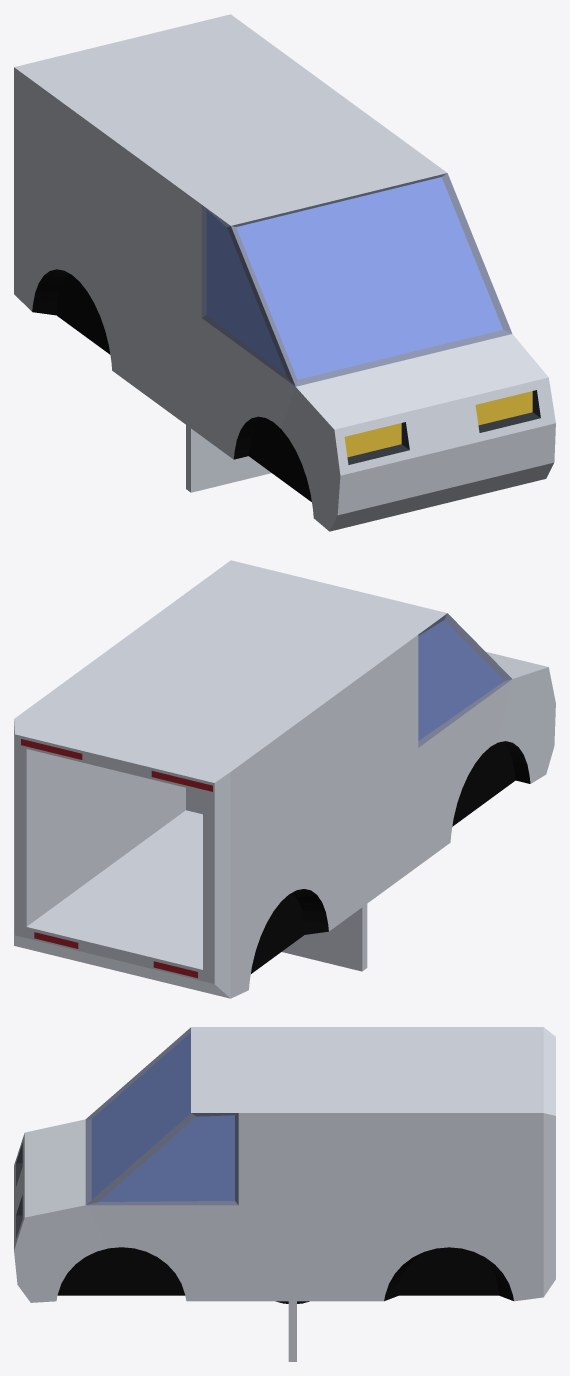
Rendered from truck.glb.
The picture shows the model from 3 angles, top to bottom: view 1: azimuth 30°, elevation 25°; view 2: azimuth 150°, elevation 25°; view 3: azimuth 270°, elevation 25°; orthographic projection. The views are drawn at different scales.
Parts seen in each view (by area): view 1: Body, BackDoorLeft; view 2: Body, BackDoorLeft; view 3: Body, BackDoorRight.
Boxes of the visible parts, left/top/right/bottom form: Body: left=14, top=14, right=555, bottom=531; BackDoorLeft: left=186, top=425, right=271, bottom=492; Body: left=14, top=560, right=555, bottom=998; BackDoorLeft: left=282, top=904, right=367, bottom=971; Body: left=14, top=1027, right=555, bottom=1302; BackDoorRight: left=288, top=1301, right=296, bottom=1361.
Size of the model in its own units: 2.01 by 2.78 by 5.33.
Materials: 1 (1 with a texture image).
